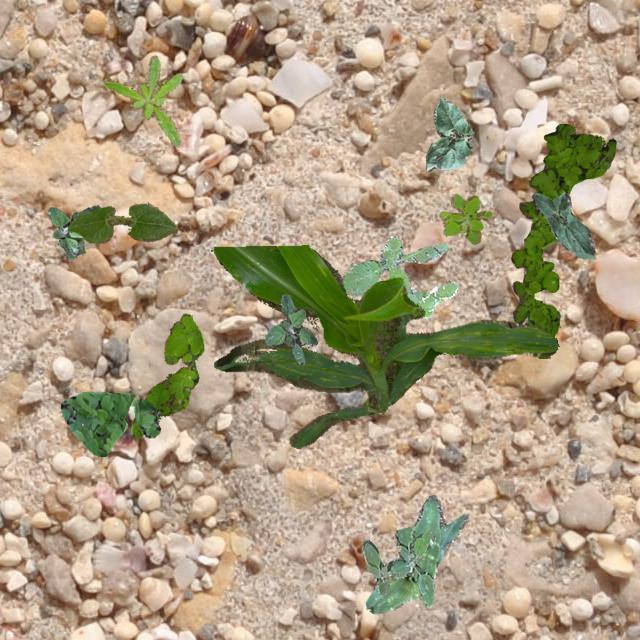crop: (212, 243, 558, 448), (364, 493, 468, 612), (66, 202, 176, 242), (530, 192, 594, 258), (424, 96, 472, 170)
weed: (510, 122, 614, 358), (341, 235, 456, 316), (130, 312, 202, 438), (104, 54, 182, 146), (60, 390, 162, 456), (360, 526, 434, 606), (264, 294, 316, 364), (48, 204, 98, 260), (438, 192, 491, 244)
